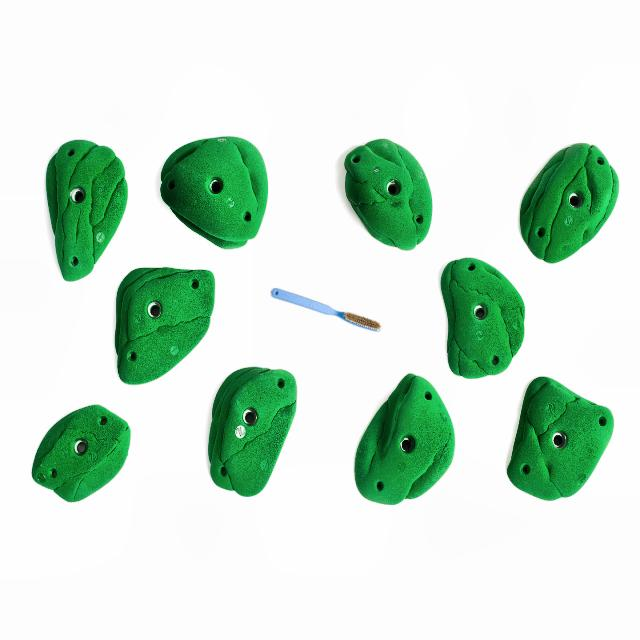Hold: (498, 371, 618, 502), (521, 134, 619, 268), (351, 374, 454, 501), (118, 264, 216, 386), (210, 368, 304, 495), (47, 137, 127, 280), (336, 136, 434, 250), (164, 136, 264, 247), (438, 256, 526, 380), (31, 402, 129, 505)
